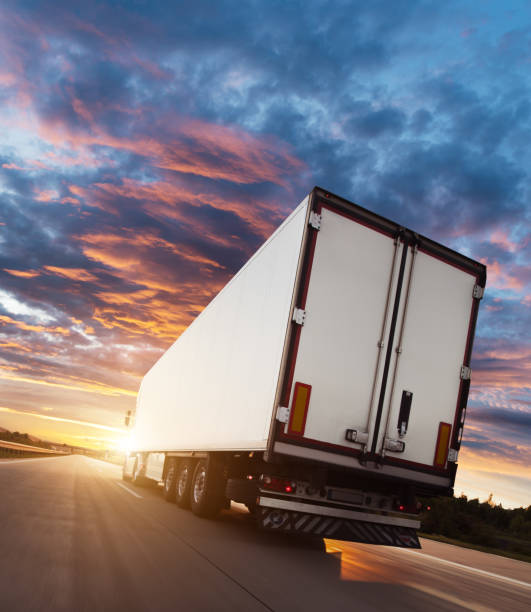Semi: (123, 187, 487, 551)
